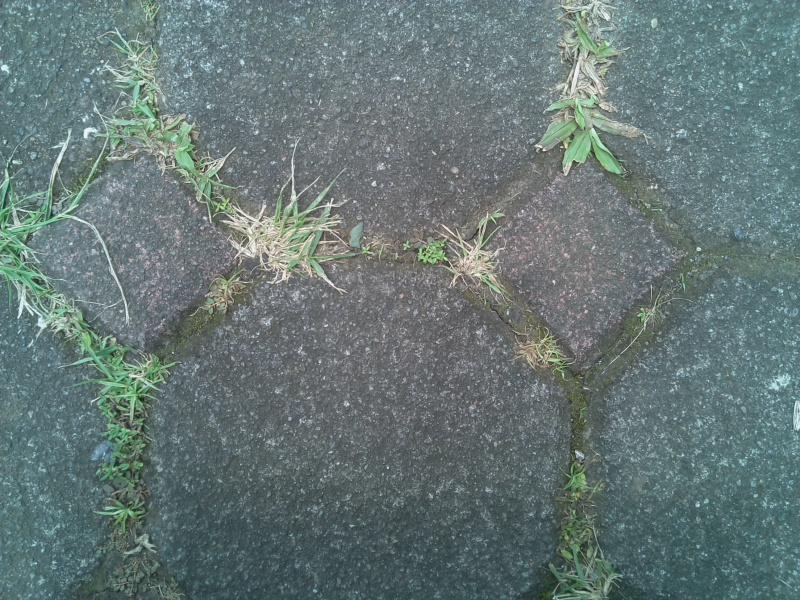Weed: (243, 172, 344, 285), (527, 96, 652, 175), (3, 168, 65, 322), (535, 4, 627, 94), (78, 343, 177, 415), (96, 27, 181, 109), (95, 113, 208, 172), (440, 213, 510, 299), (86, 420, 175, 484), (506, 318, 576, 383), (543, 506, 612, 561), (551, 450, 609, 508), (197, 269, 253, 323), (90, 489, 153, 534), (397, 228, 450, 273), (628, 297, 662, 337)
